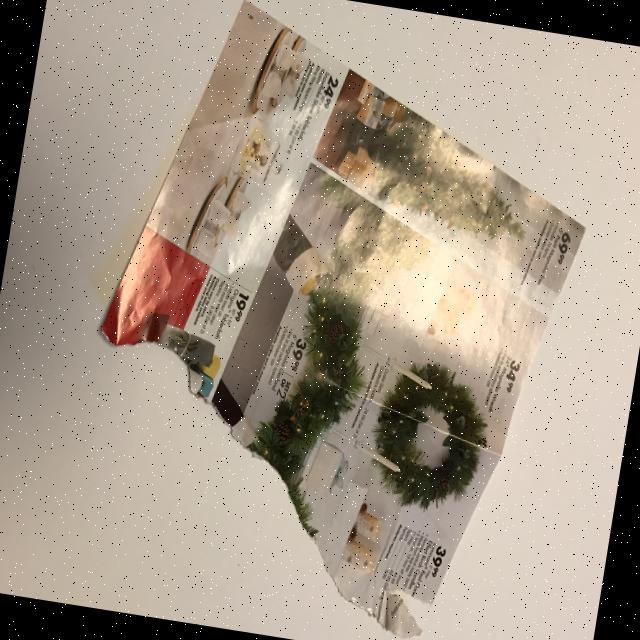paper: (60, 0, 614, 640)
